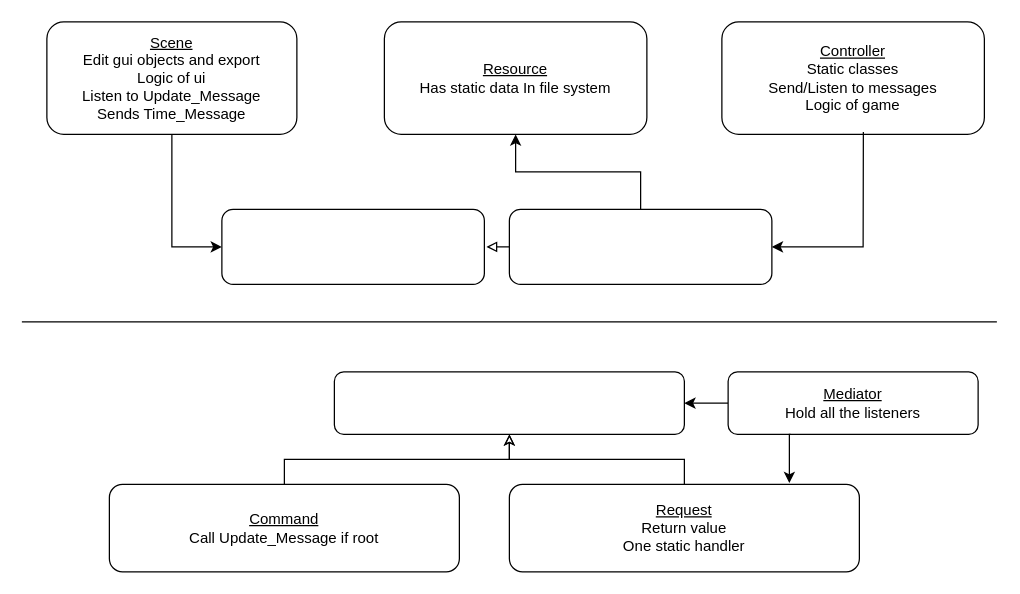
The diagram is 1020 pixels wide and 594 high, and some of its shapes have lost their labels. Here are the shapes that lost their labels. From the top down, the box of each, then its label:
(221, 208, 484, 284): IModel Has runtime data Has documentation
(508, 208, 772, 284): Model Has method that call commands No logic
(333, 371, 684, 434): Message Multiple static listeners No return value
